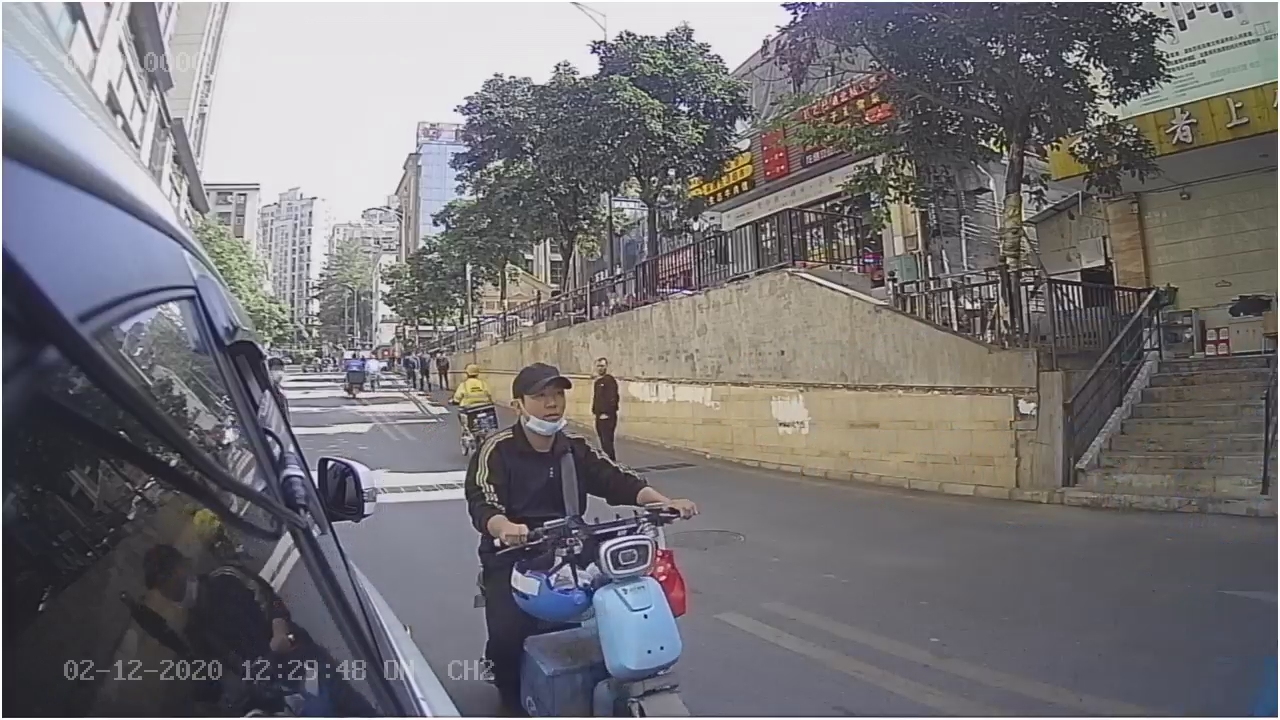person: (460, 358, 643, 543)
